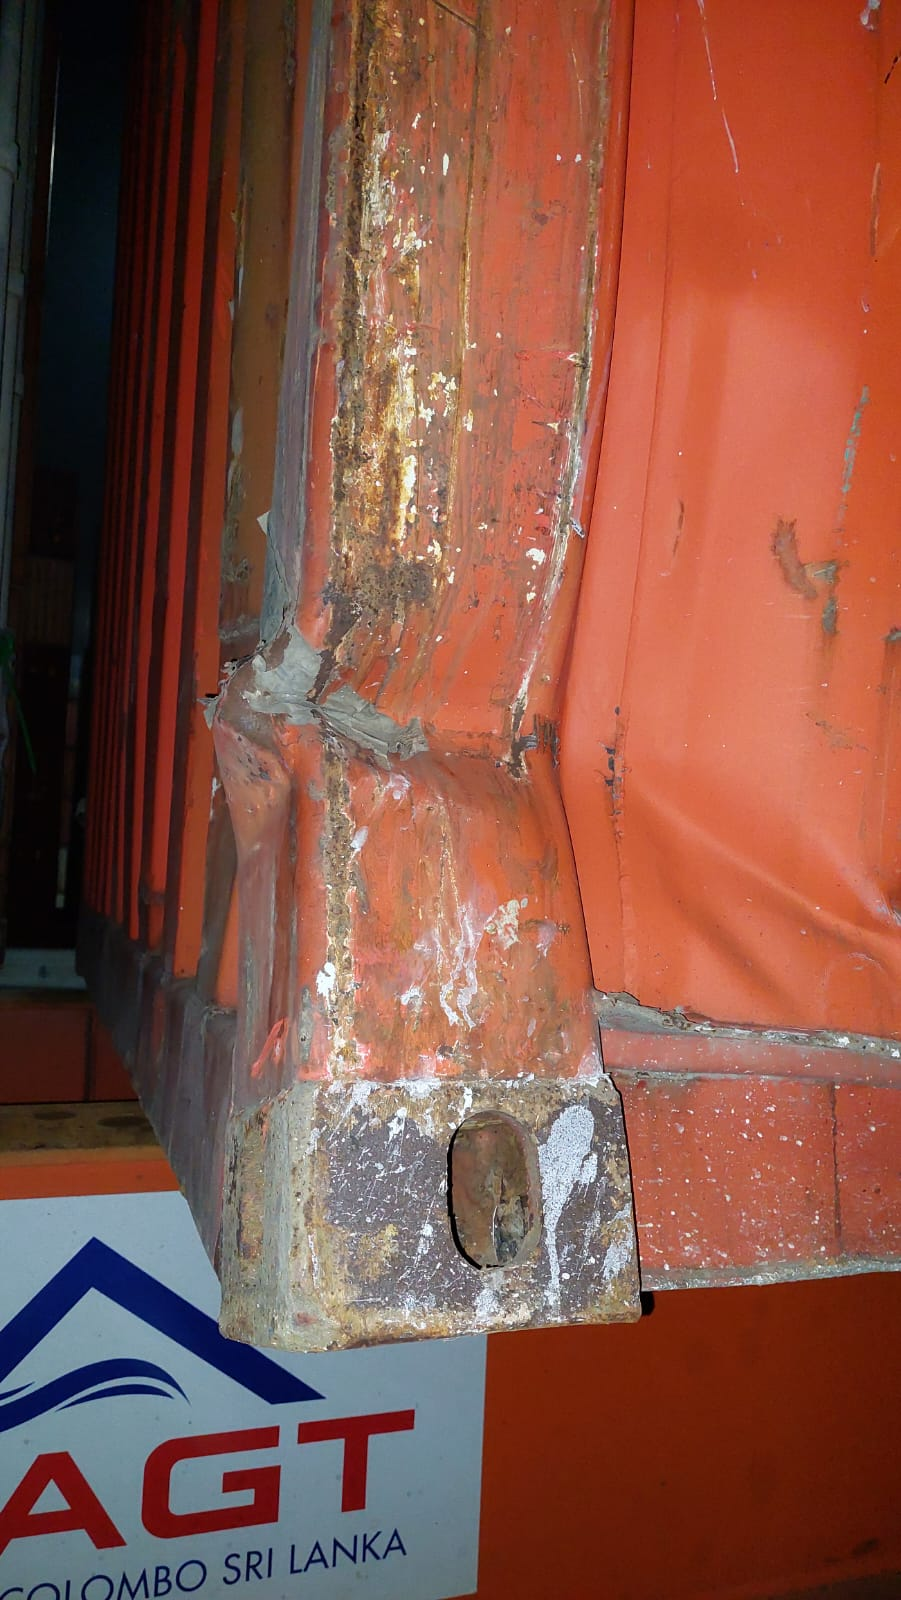moderate: (183, 505, 655, 1255)
